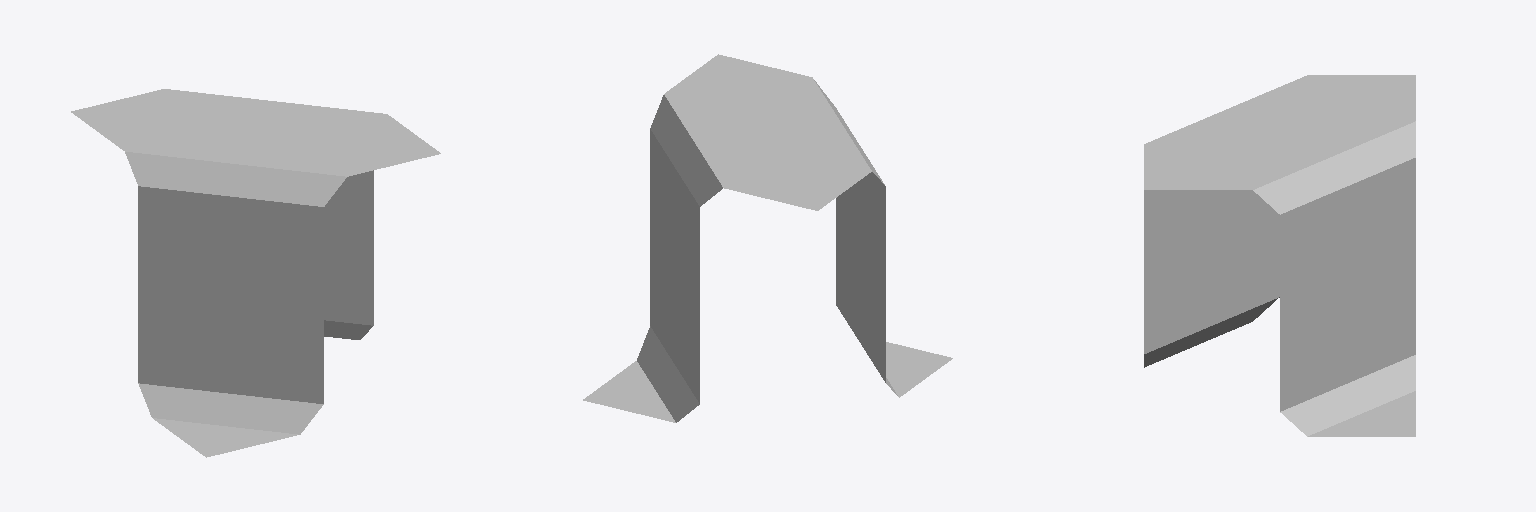
File: fsfs_wall_llaw_wall_llaw_efef.obj
The picture shows the model from 3 angles: view 1: azimuth 30°, elevation 25°; view 2: azimuth 150°, elevation 25°; view 3: azimuth 270°, elevation 25°; orthographic projection.
Parts seen in each view (by area): view 1: fsfs_wall_llaw_wall_llaw_efef_Plane.006; view 2: fsfs_wall_llaw_wall_llaw_efef_Plane.006; view 3: fsfs_wall_llaw_wall_llaw_efef_Plane.006.
Part boxes in pixels (left/top/right/bottom): fsfs_wall_llaw_wall_llaw_efef_Plane.006: left=71, top=89, right=440, bottom=457; fsfs_wall_llaw_wall_llaw_efef_Plane.006: left=583, top=54, right=952, bottom=422; fsfs_wall_llaw_wall_llaw_efef_Plane.006: left=1144, top=75, right=1415, bottom=436.
Bounding box in the file's own units: 1 × 1 × 1.